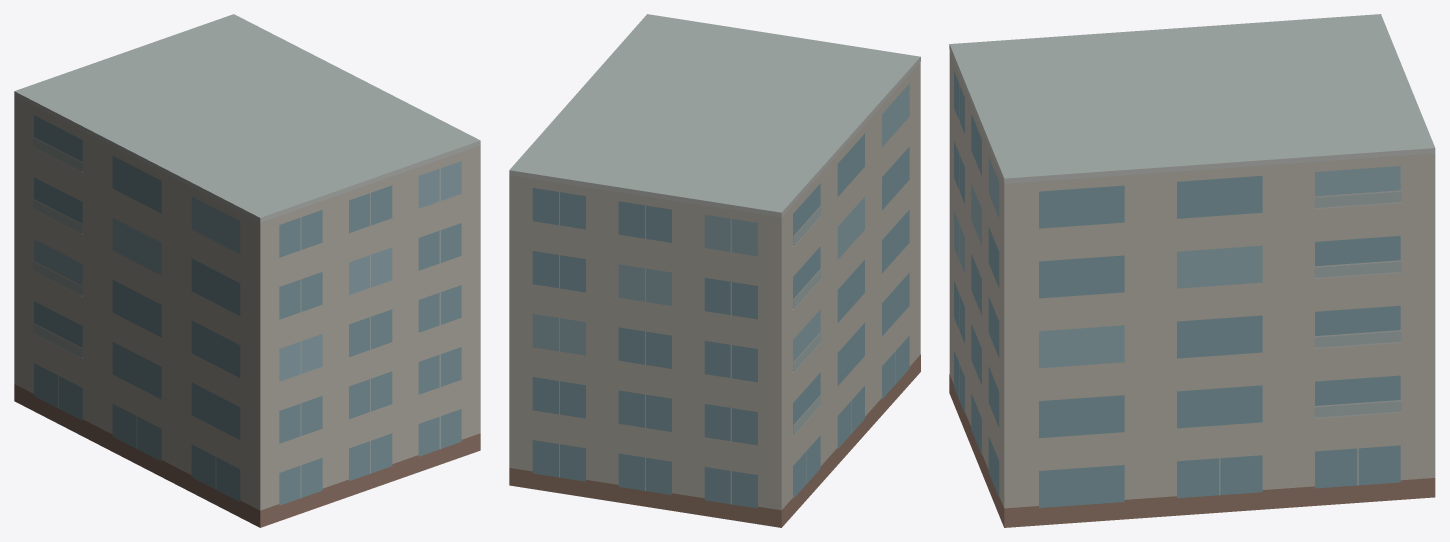
The model's file is survey-upis-32767536.glb.
3 views of the same model, side by side, from view 1: azimuth 30°, elevation 25°; view 2: azimuth 150°, elevation 25°; view 3: azimuth 270°, elevation 25° (orthographic). The views are drawn at different scales.
Visible parts, largest first — view 1: survey-upis-32767536.tmp; view 2: survey-upis-32767536.tmp; view 3: survey-upis-32767536.tmp.
Part boxes in pixels (x1,y1,x2,y2): survey-upis-32767536.tmp: (14, 14, 480, 527); survey-upis-32767536.tmp: (509, 14, 920, 527); survey-upis-32767536.tmp: (949, 14, 1435, 527).
Bounding box in the file's own units: 15.98 × 15.8 × 19.93.
